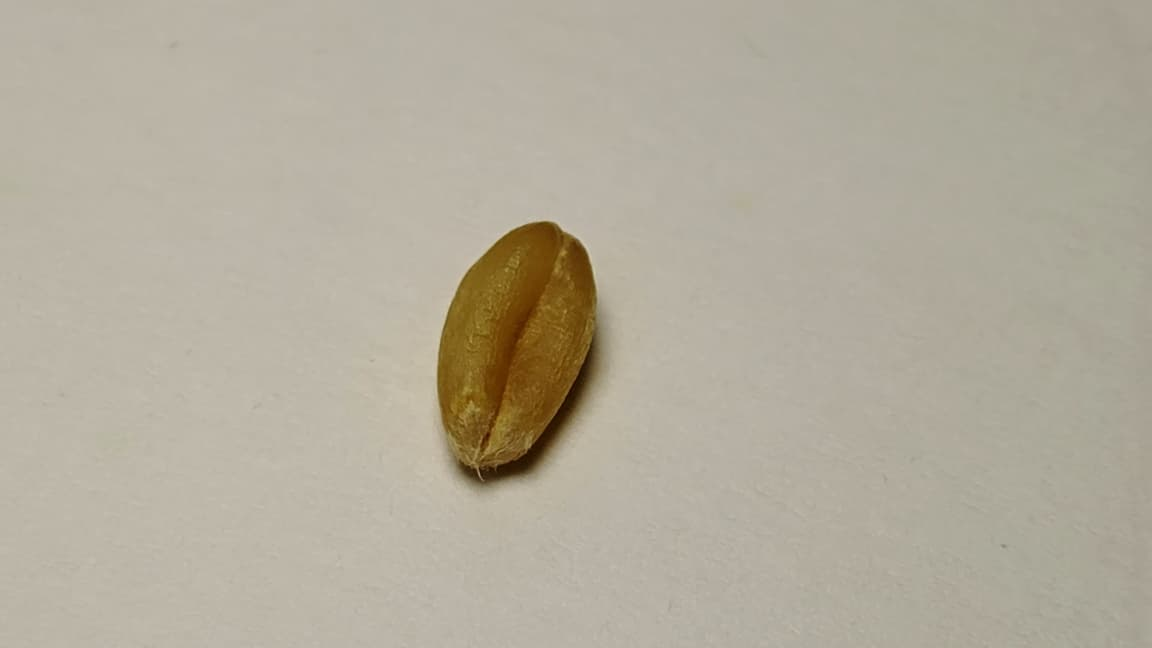healthy: (439, 222, 594, 465)
